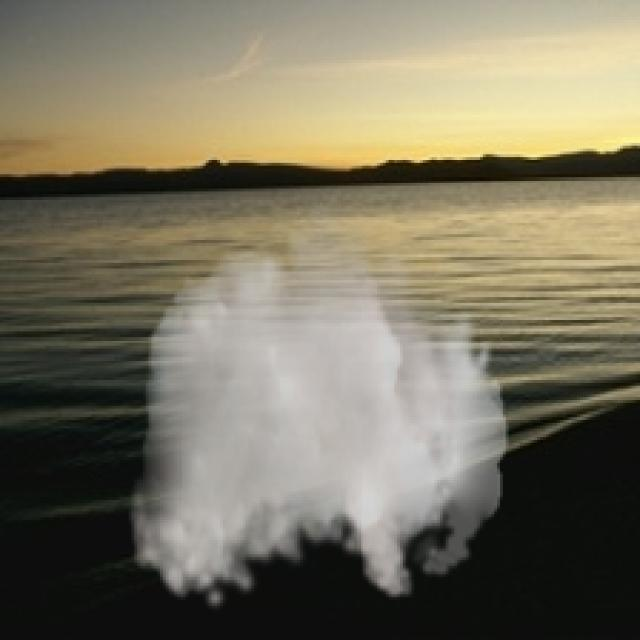smoke: (128, 195, 508, 614)
